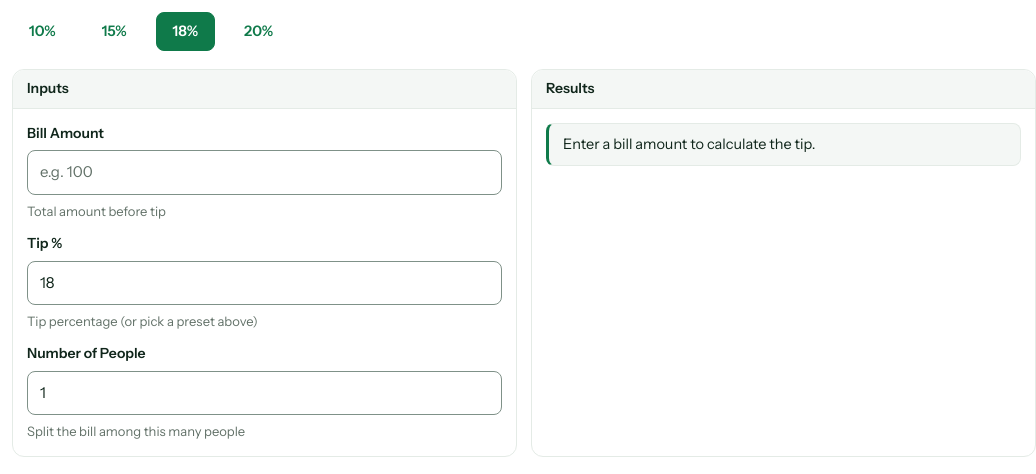
Test: TipCalculator › computes per-person total $29.50 for bill $100, 18%, split 4
Type "100" into the number field with placeholder "e.g. 100" at (264, 172), box [27,150,502,195]
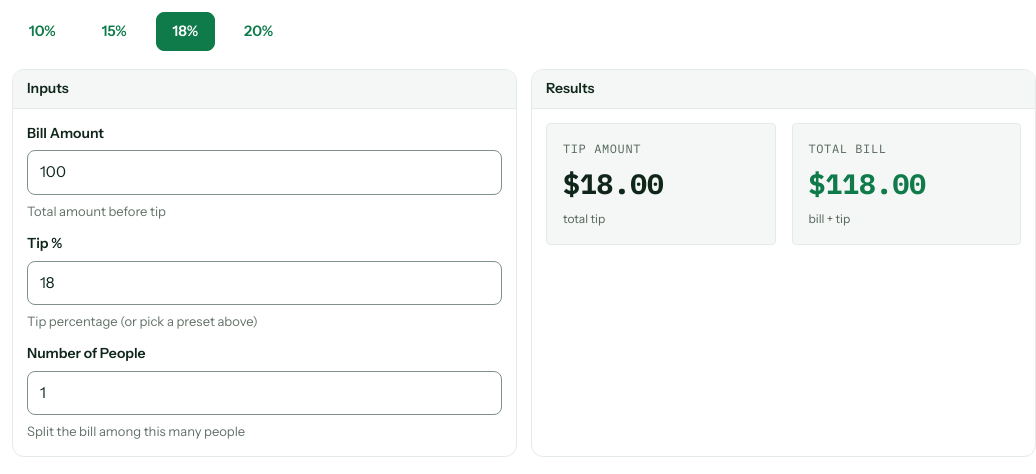
Replace the text in the number field with placeholder "e.g. 4" with "4" at (264, 393), box [27,371,502,415]
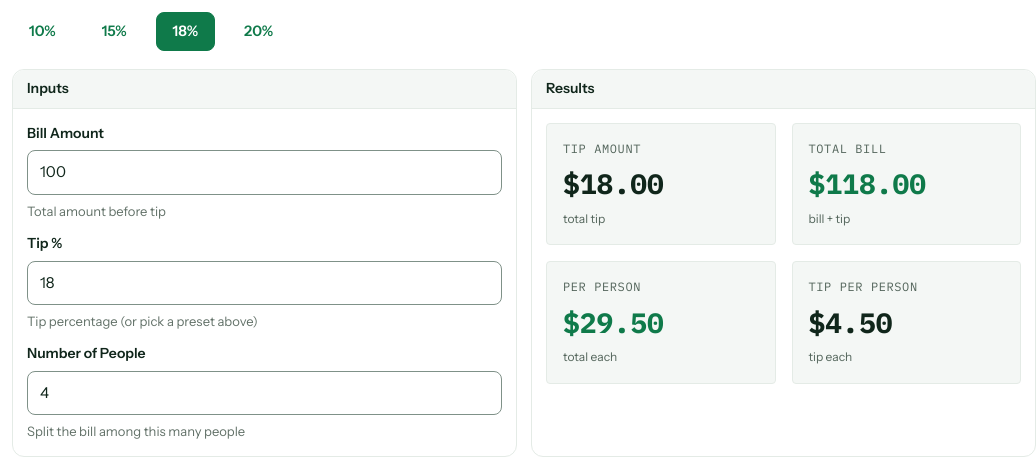
Result: the text "$29.50" is shown at [563,304,664,341]
